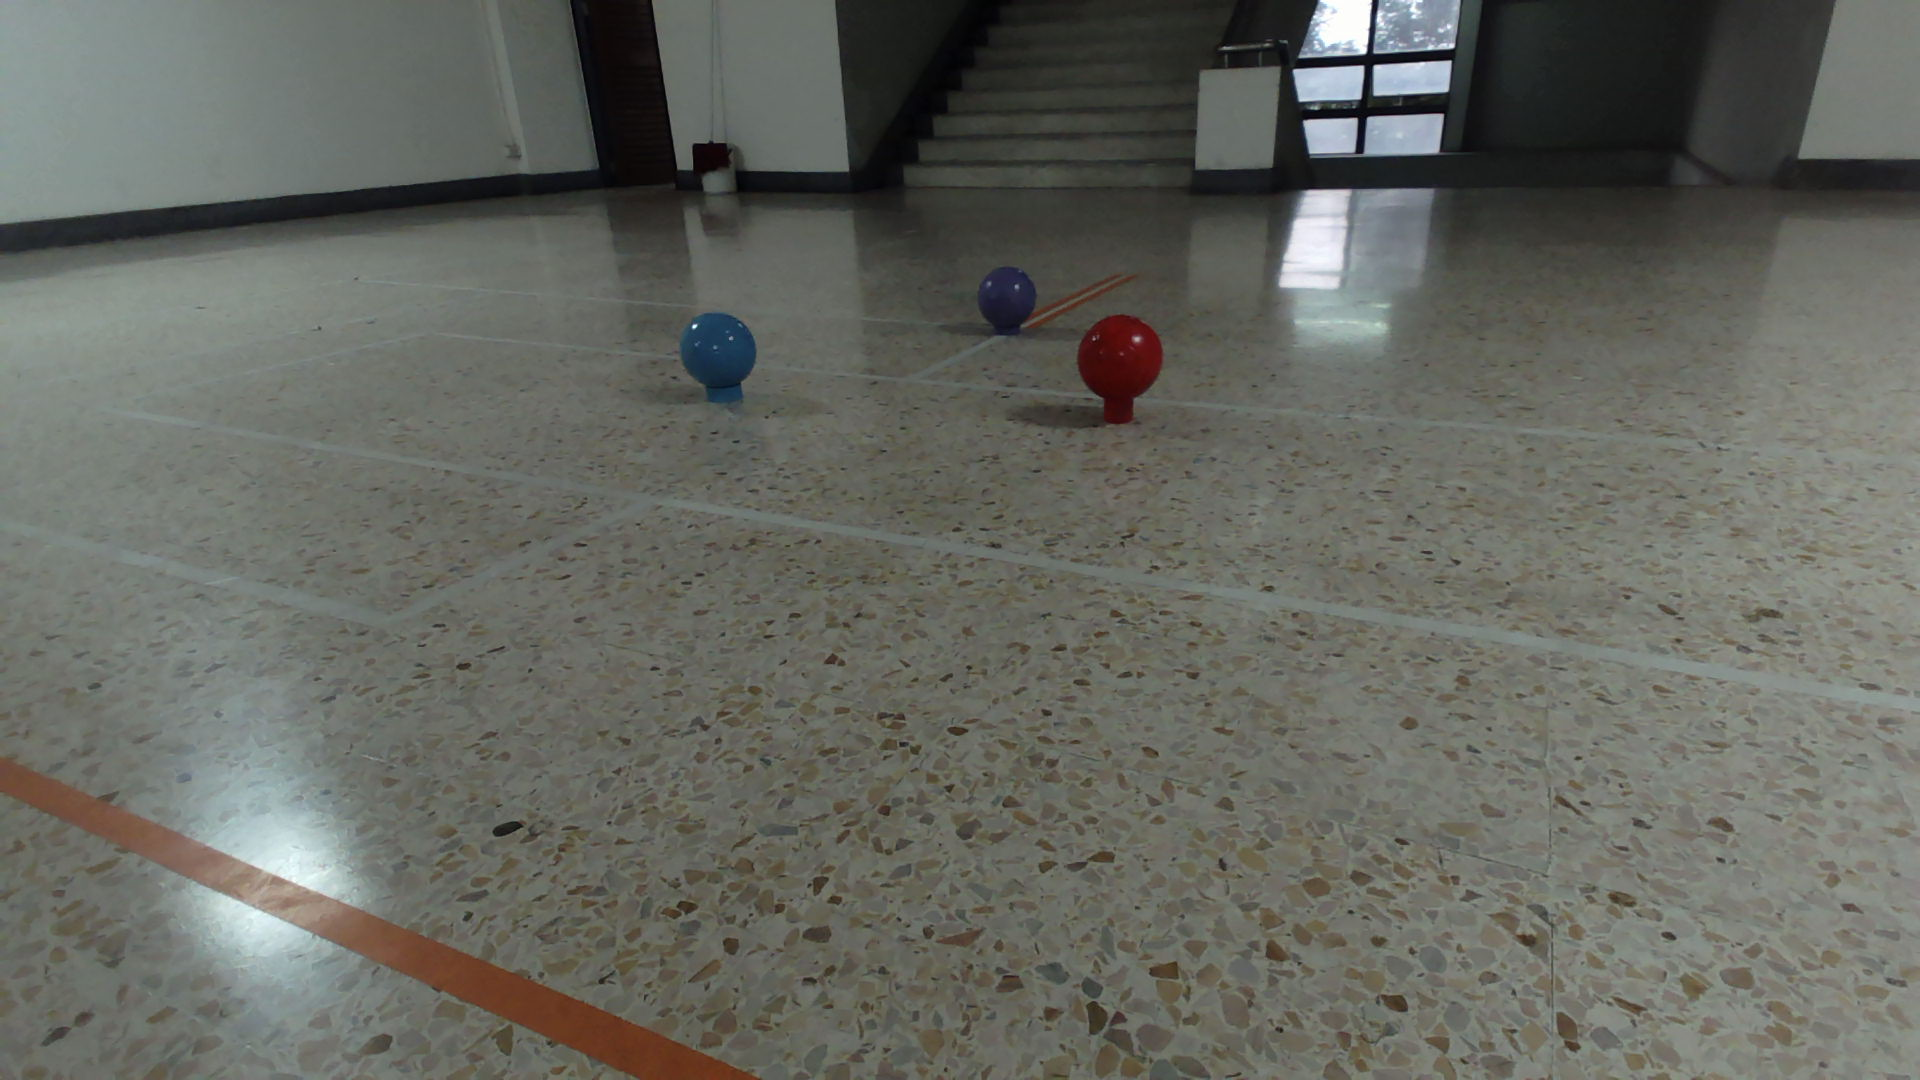Blue ball: (678, 311, 758, 389)
Purple ball: (975, 264, 1039, 330)
Red ball: (1075, 313, 1164, 401)
